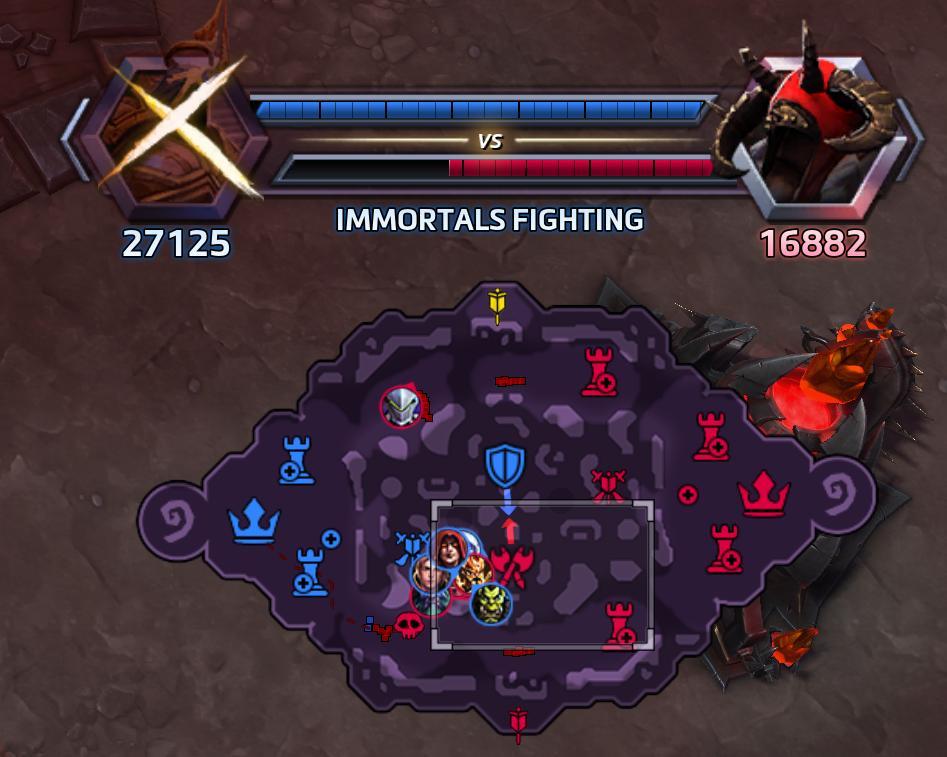blue nexus: (226, 492, 288, 550)
blue player: (469, 581, 512, 625), (409, 554, 452, 597), (451, 553, 491, 597), (433, 528, 468, 570)
blue tower: (276, 434, 317, 488), (286, 543, 329, 594)
red nexus: (729, 464, 797, 522)
red player: (404, 578, 453, 623), (380, 384, 420, 429)
red tower: (686, 409, 737, 467), (574, 344, 620, 400), (599, 600, 641, 655), (707, 523, 745, 575)
